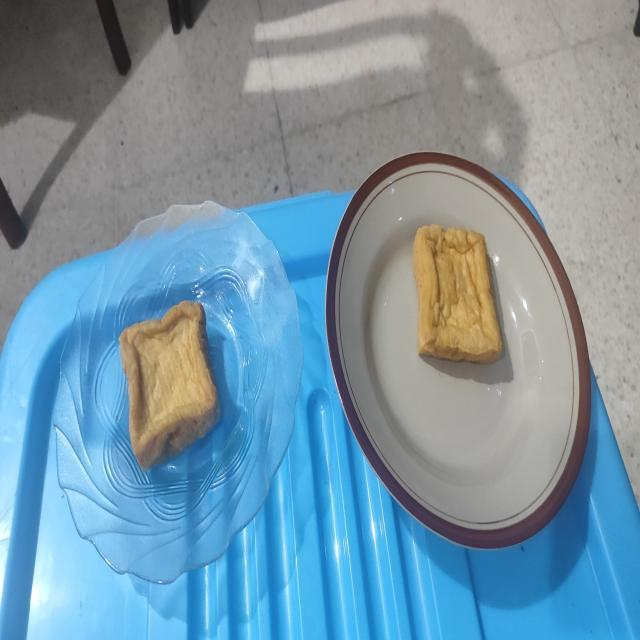tahu_goreng: (119, 301, 219, 470), (412, 224, 502, 364)
